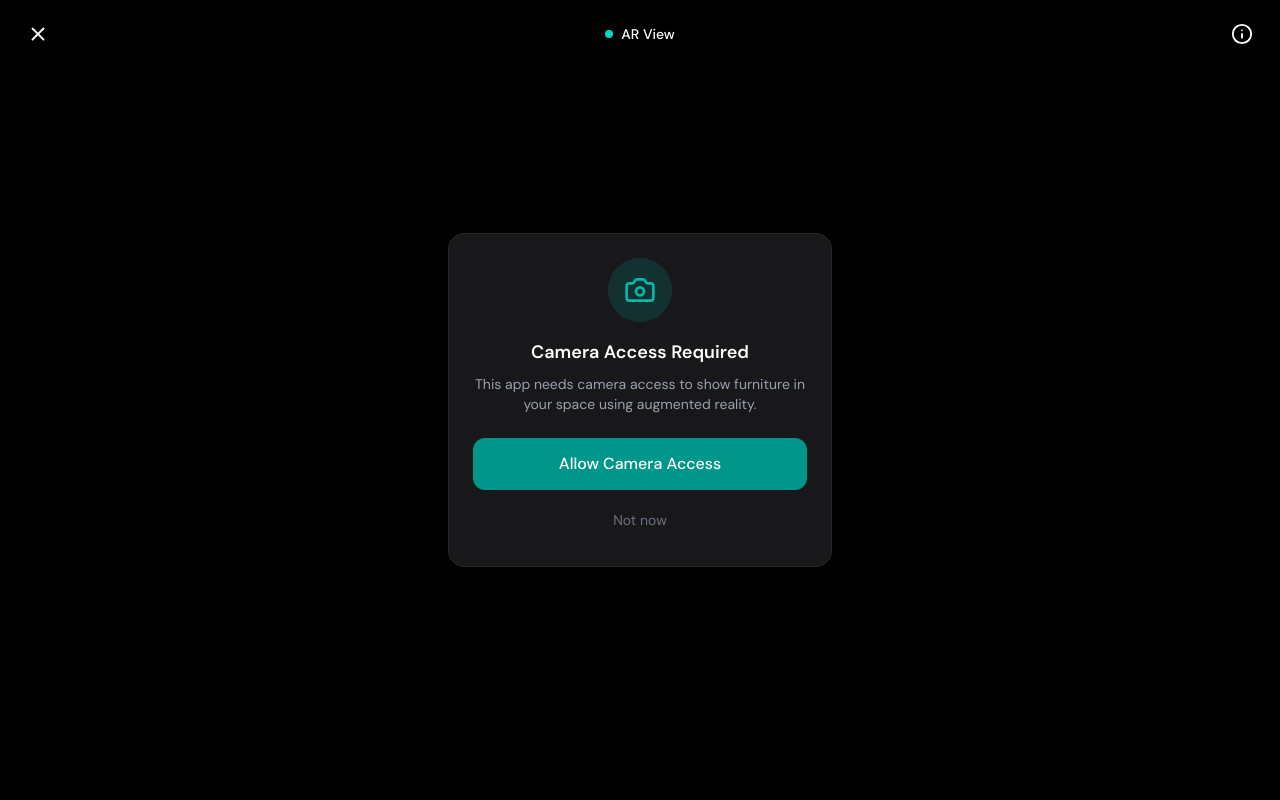
Test: NativeARView failed start (FE-21) › a preload failure destroys the view (camera/session stopped) and the UI returns to off
The image size is (1280, 800).
Click the button "Allow Camera Access".
click(640, 464)  # box [473, 438, 807, 490]
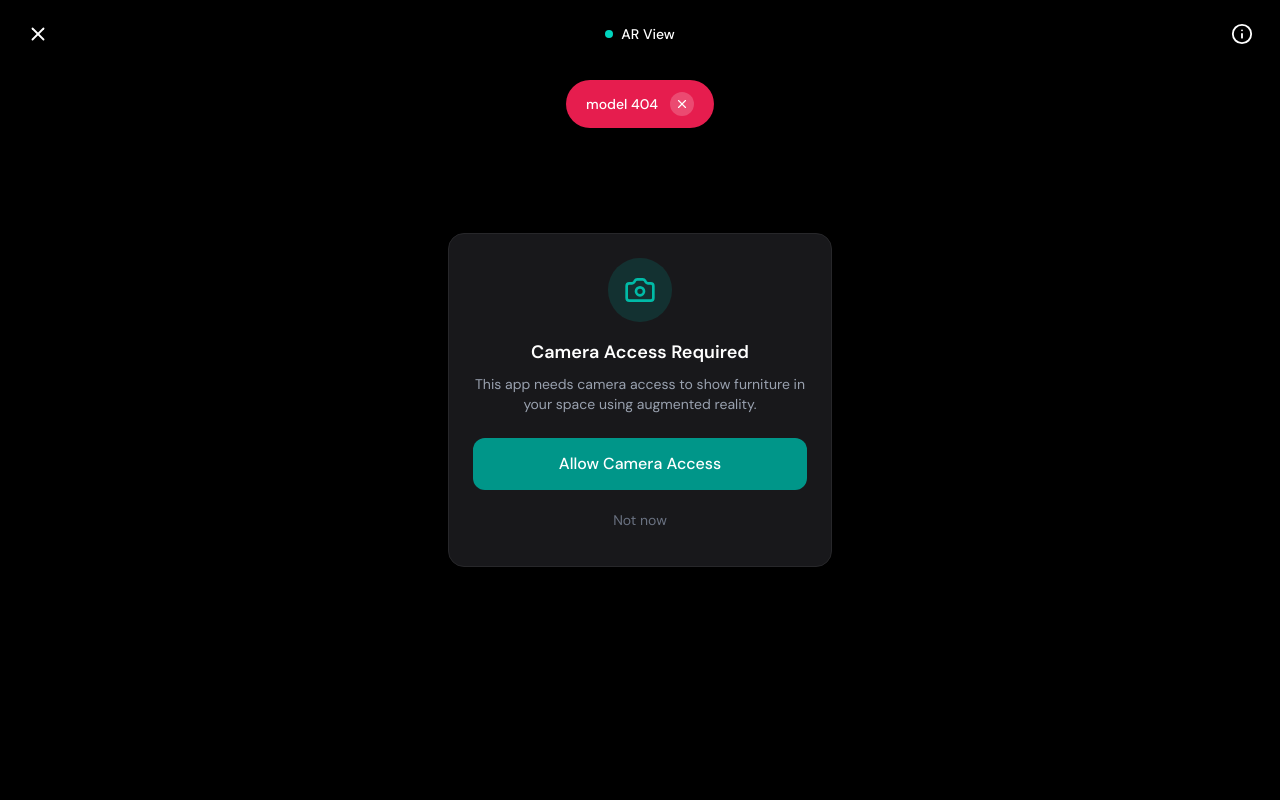
expect the text "model 404" is shown: met, box [586, 94, 658, 114]
